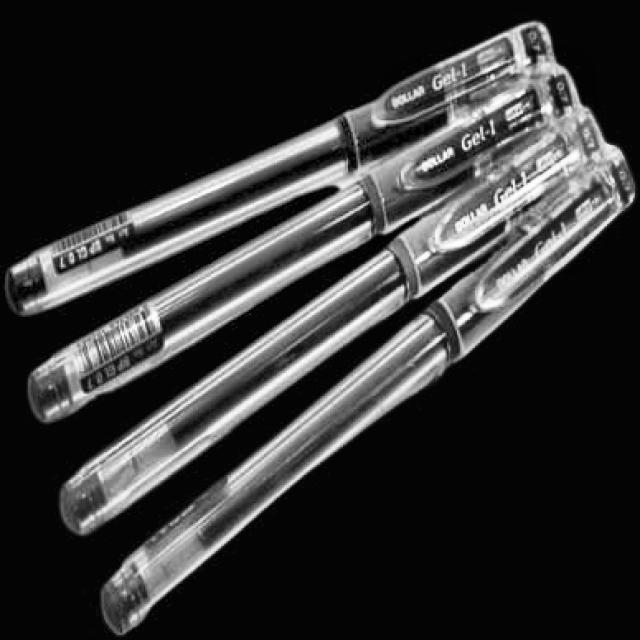Pen: (58, 107, 604, 539), (26, 71, 577, 426), (8, 23, 559, 318)
